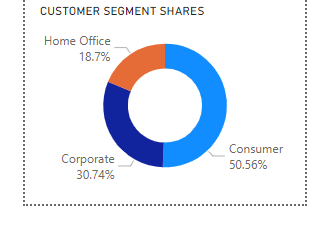

What the dashboard file says about the page in this screenshot:
{"tool":"powerbi","page":{"name":"Segment  tooltip","canvas":[280,210],"ordinal":3},"visuals":[{"type":"donutChart","title":"CUSTOMER SEGMENT SHARES","fields":{"Y":["Sum(Orders.Sales)"],"Category":["Orders.Segment"]},"box":[10,10,260,190],"z":0}]}

Visuals, with their boxes on the page's 280x210 design canvas (x1, y1, x2, y2). These are canvas units, not pixel positions in the 331x232 screenshot, which may show the page scaled, cropped or inside an application window:
"CUSTOMER SEGMENT SHARES" donutChart: 10 10 270 200
